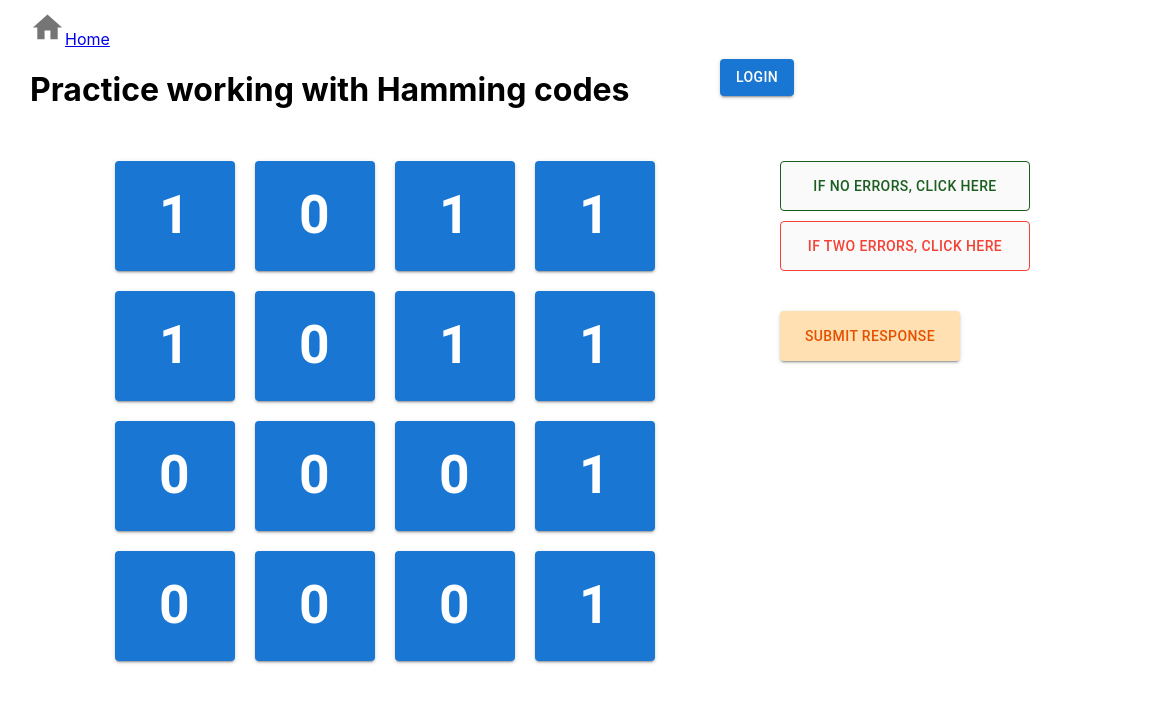
Test case: page is rendered › correct answer displays correct to user
Click the button "If no errors, click here" at (905, 186), box [780, 161, 1030, 211]
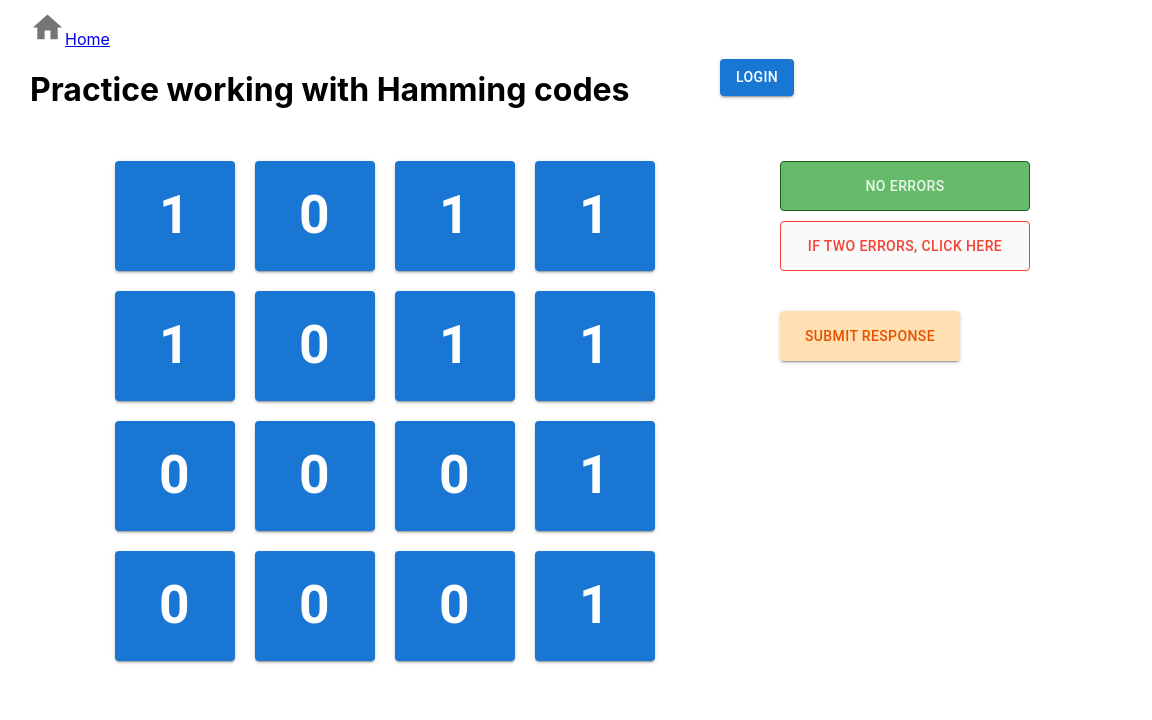
Click the button "Submit Response" at (870, 336), box [780, 311, 960, 361]
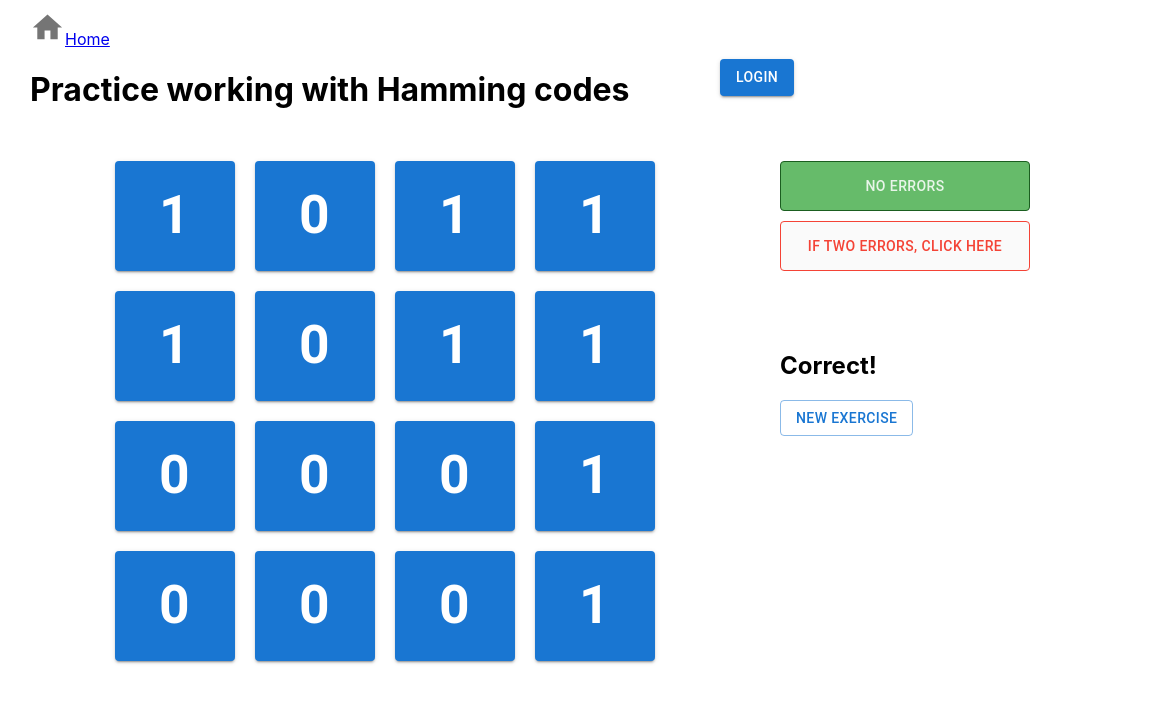
Now the heading "Correct!" is shown, box [780, 351, 877, 380]
